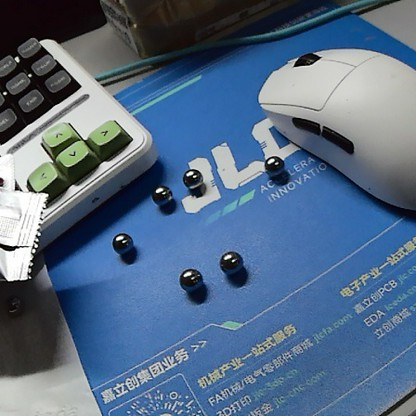ironball: (142, 178, 183, 211), (173, 161, 208, 195), (213, 246, 247, 277), (106, 229, 139, 257), (256, 149, 286, 179), (177, 264, 205, 293)
